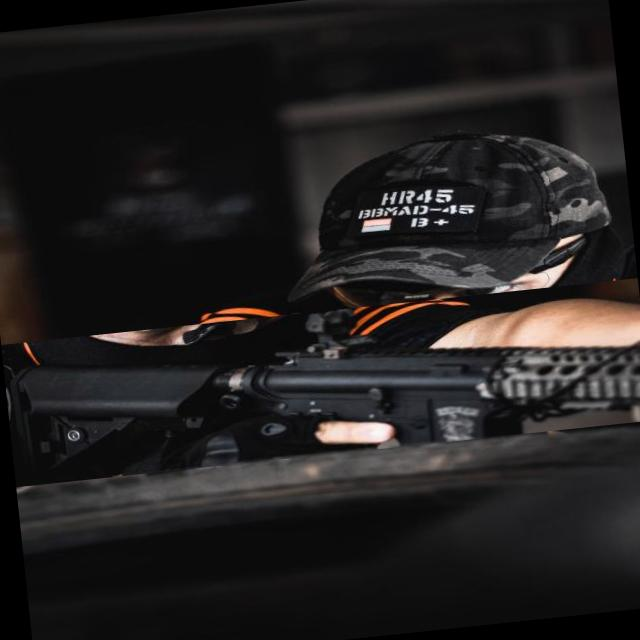Gun: (4, 310, 640, 468)
